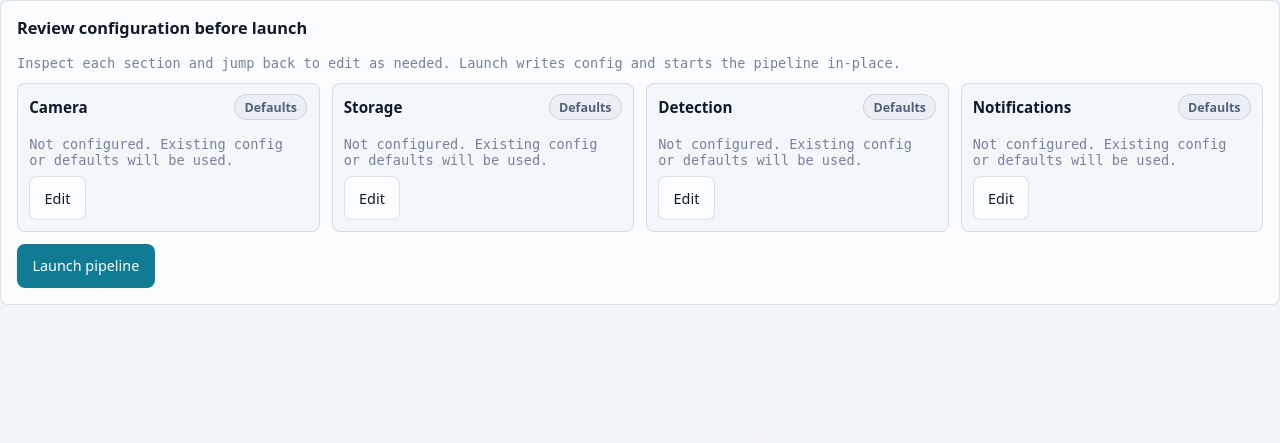
Test case: ReviewStep › surfaces precheck errors and skips launch polling
This screenshot has width=1280, height=443.
// Launch is triggered and precheck fails
Click the button "Launch pipeline": (86, 266) [17,244,155,288]
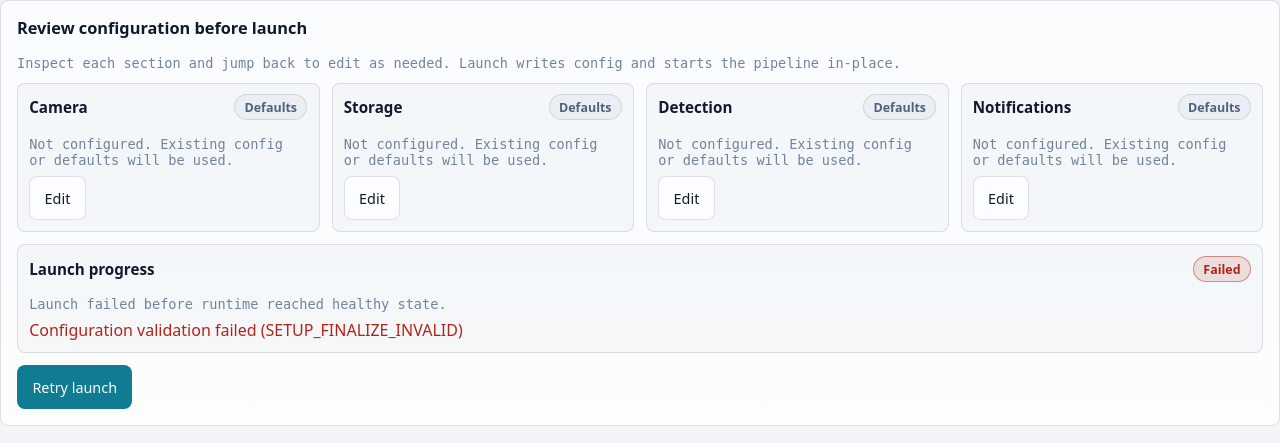
Now the message "Configuration validation failed (SETUP_FINALIZE_INVALID)" is shown, box [29,319,463,341]
Now the button "Retry launch" is shown, box [17,365,132,409]
